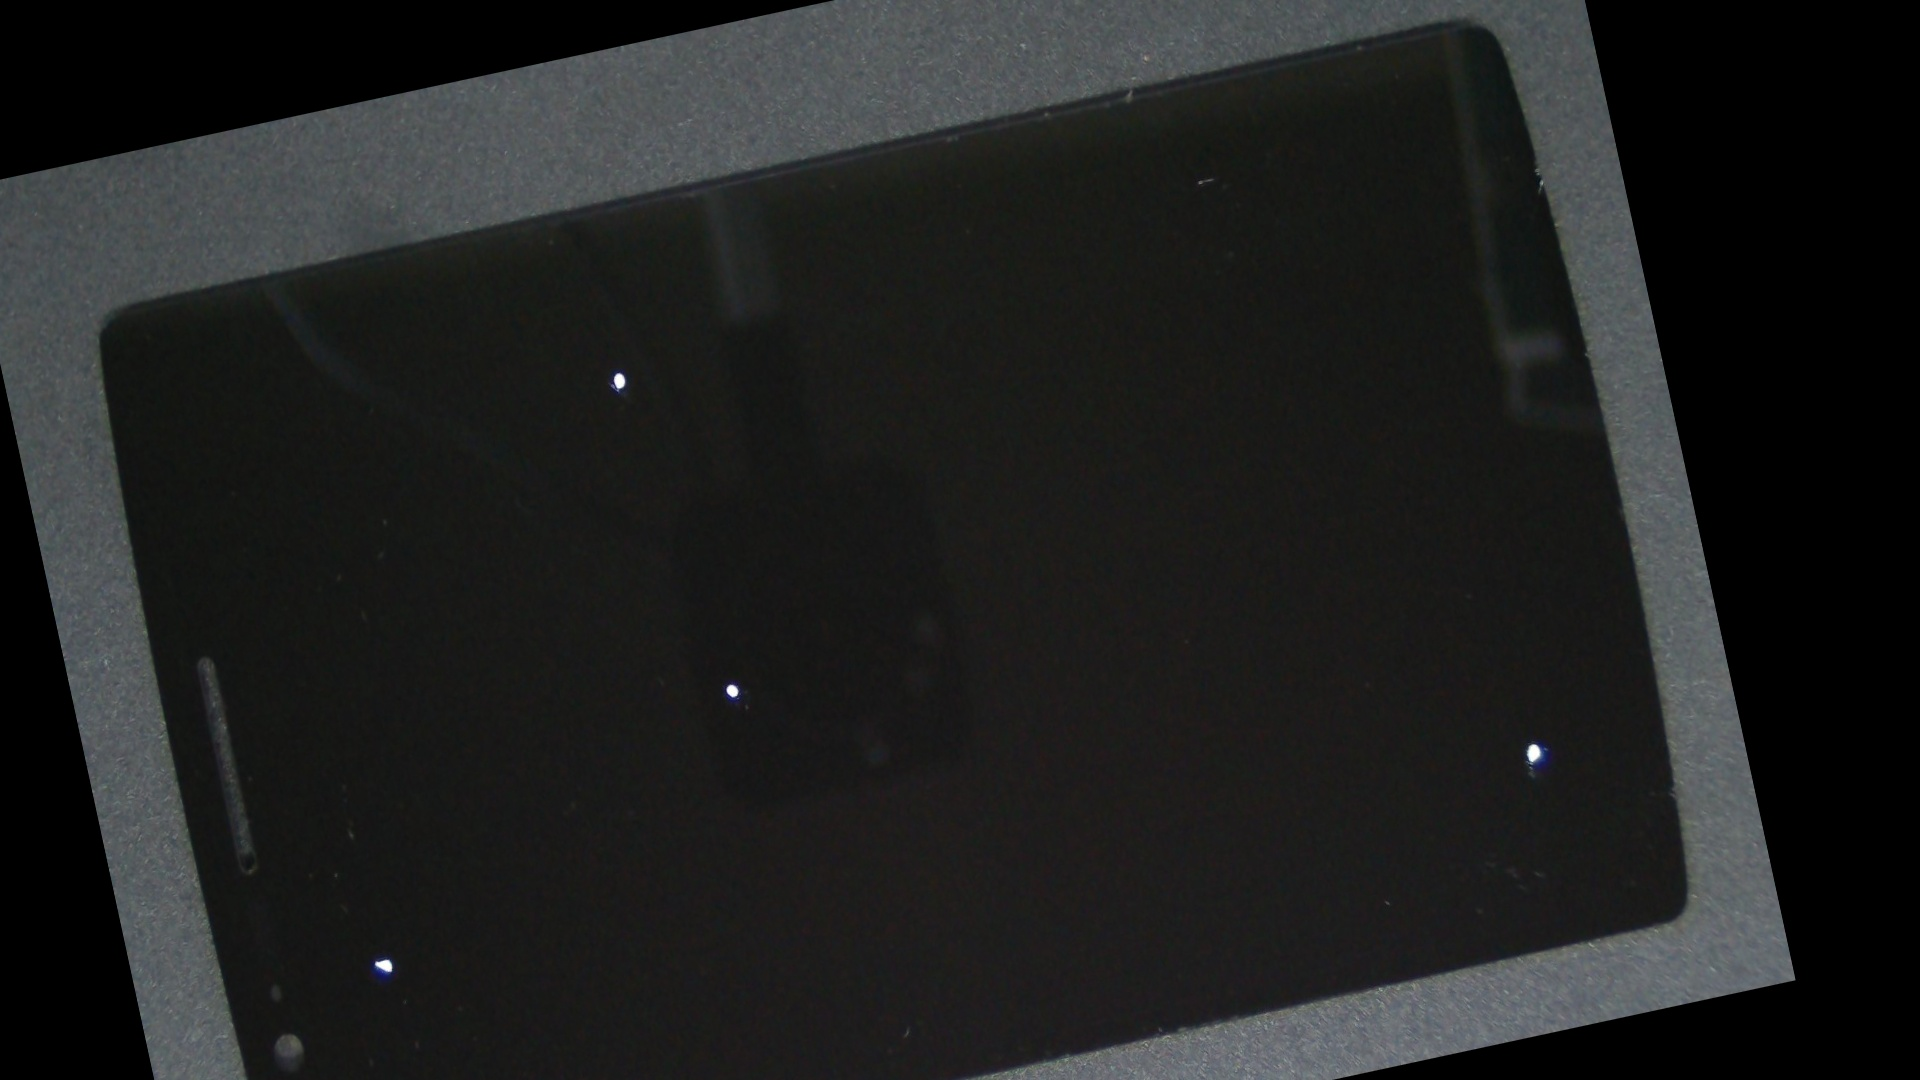oil: (748, 272, 1796, 1080), (345, 298, 1108, 1067), (291, 152, 947, 589), (170, 522, 563, 1080)
